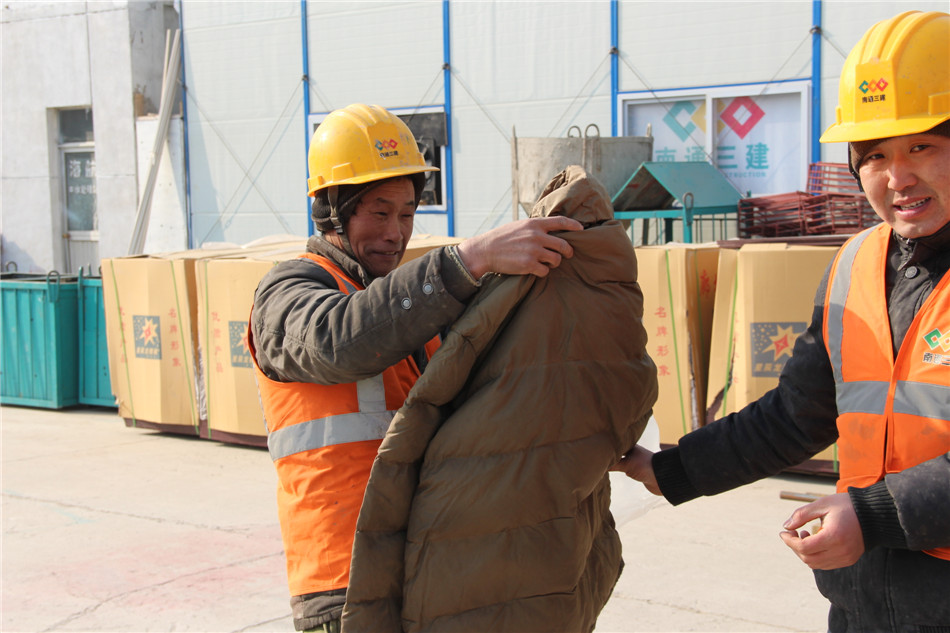safetyhat: (249, 77, 510, 593), (805, 12, 950, 604)
